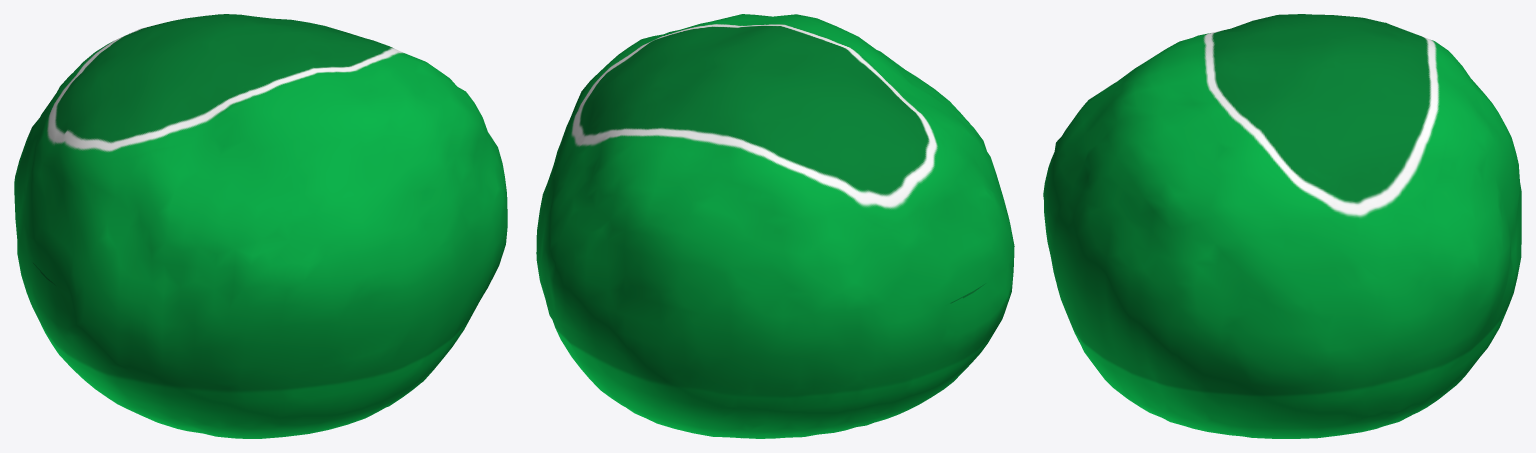
The model's file is snakebody.fbx.
3 renders of one model, left to right at view 1: azimuth 30°, elevation 25°; view 2: azimuth 150°, elevation 25°; view 3: azimuth 270°, elevation 25°, orthographic. The views are drawn at different scales.
Parts seen in each view (by area): view 1: Sphere.002; view 2: Sphere.002; view 3: Sphere.002.
Boxes of the visible parts, <box> form: Sphere.002: <box>14,14,507,438</box>; Sphere.002: <box>536,14,1014,438</box>; Sphere.002: <box>1043,14,1521,438</box>.
Size of the model in its own units: 213 by 165 by 206.
